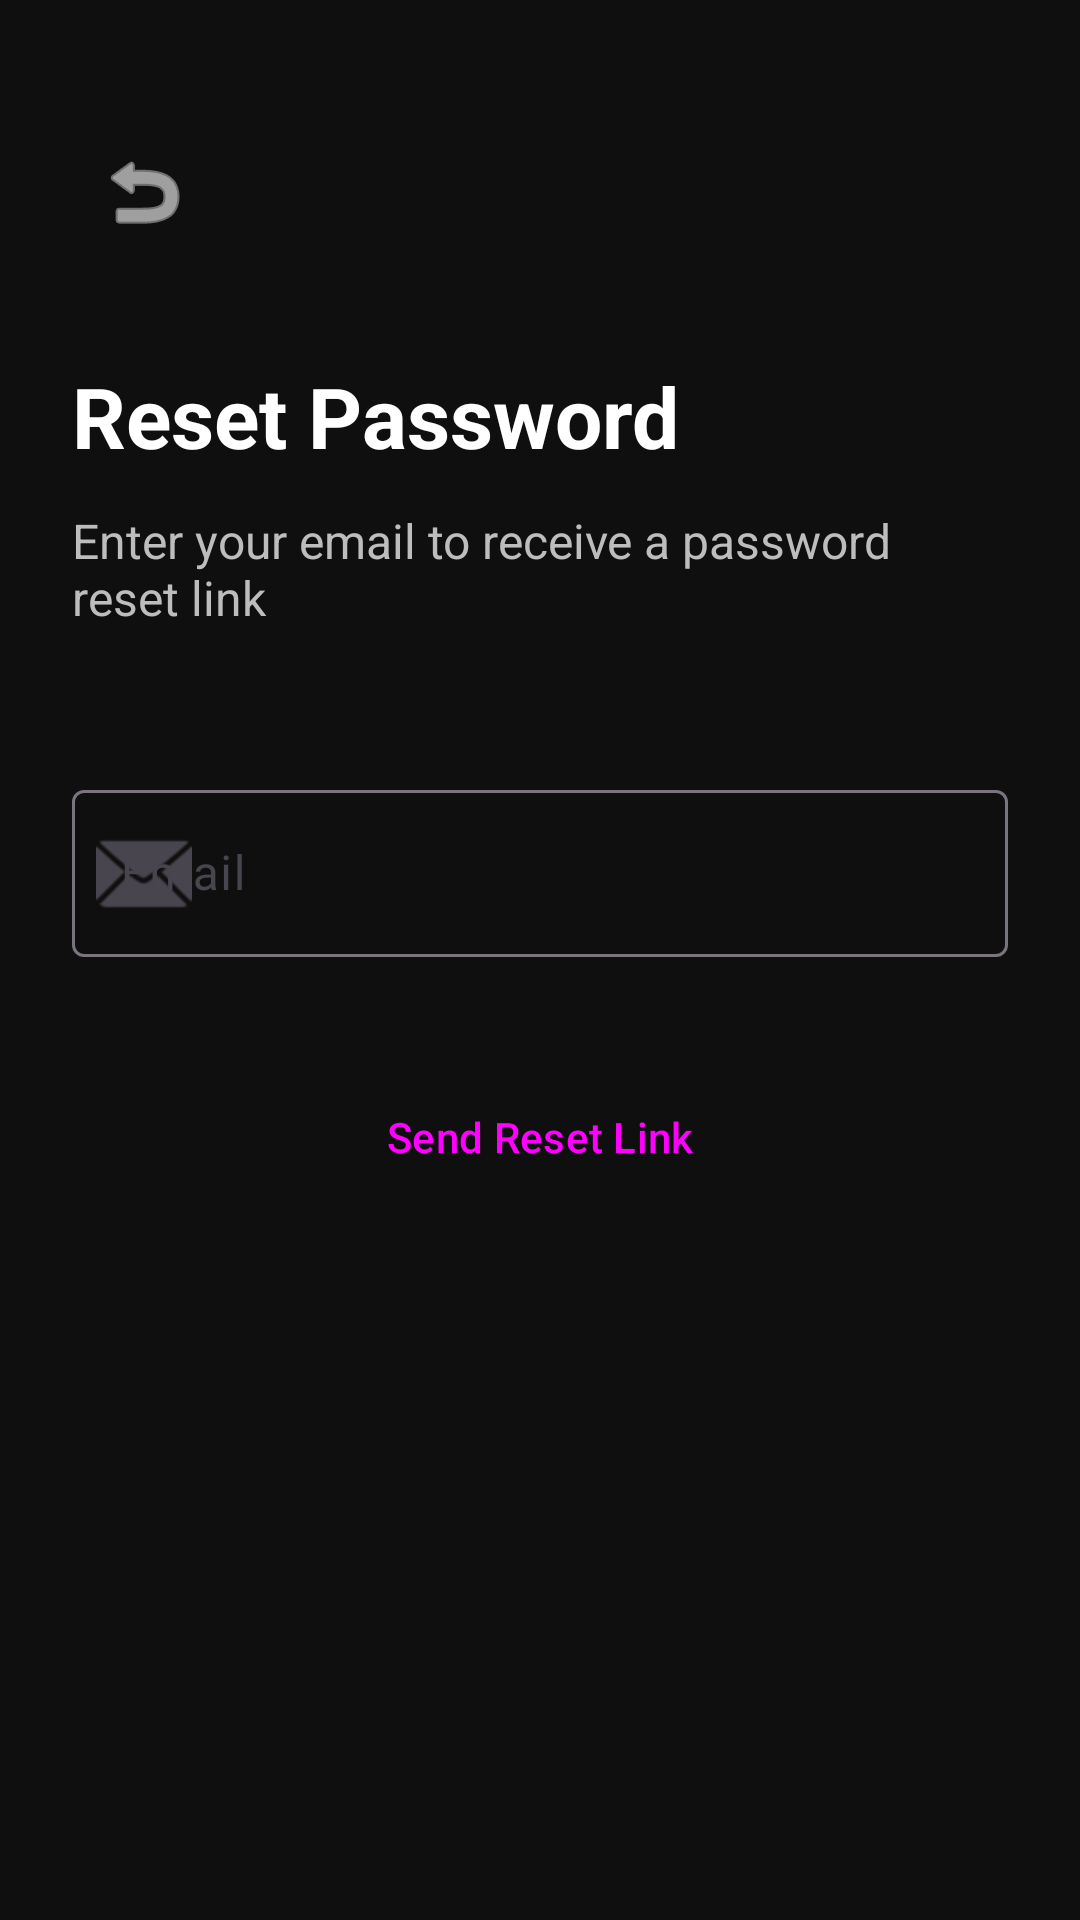

Icons on this 1080px x 1920px Android screen, each with the point to tap as (x=x, y=y):
revert: (x=145, y=192)
